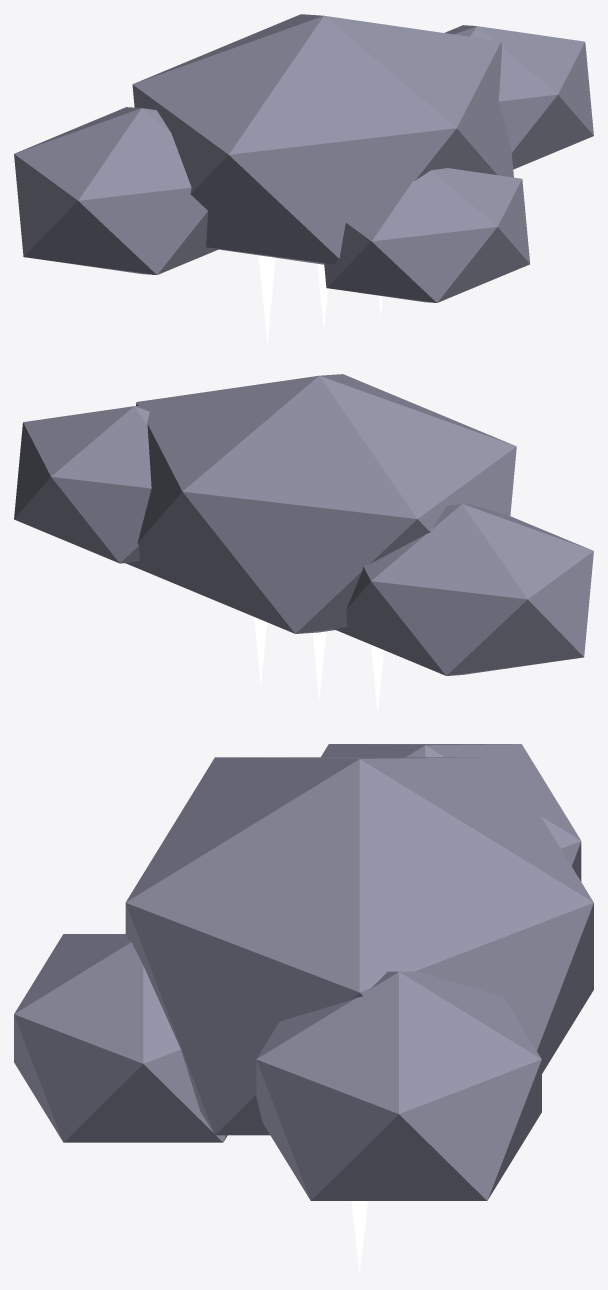
File: cloud_storm.glb
The picture shows the model from 3 angles, top to bottom: view 1: azimuth 30°, elevation 25°; view 2: azimuth 150°, elevation 25°; view 3: azimuth 270°, elevation 25°; orthographic projection. The views are drawn at different scales.
Visible parts, largest first — view 1: StormPuff0; view 2: StormPuff0; view 3: StormPuff0.
Boxes of the visible parts, x1,y1,x2,y2 form: StormPuff0: (14,14,593,345); StormPuff0: (14,374,593,714); StormPuff0: (14,744,593,1274).
Bounding box in the file's own units: 2.93 × 1.6 × 1.77.
